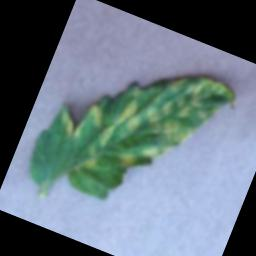Leaf_Mold: (130, 61, 236, 178), (113, 82, 153, 134), (59, 111, 86, 141), (82, 100, 109, 130), (112, 147, 140, 173), (94, 120, 116, 149)
